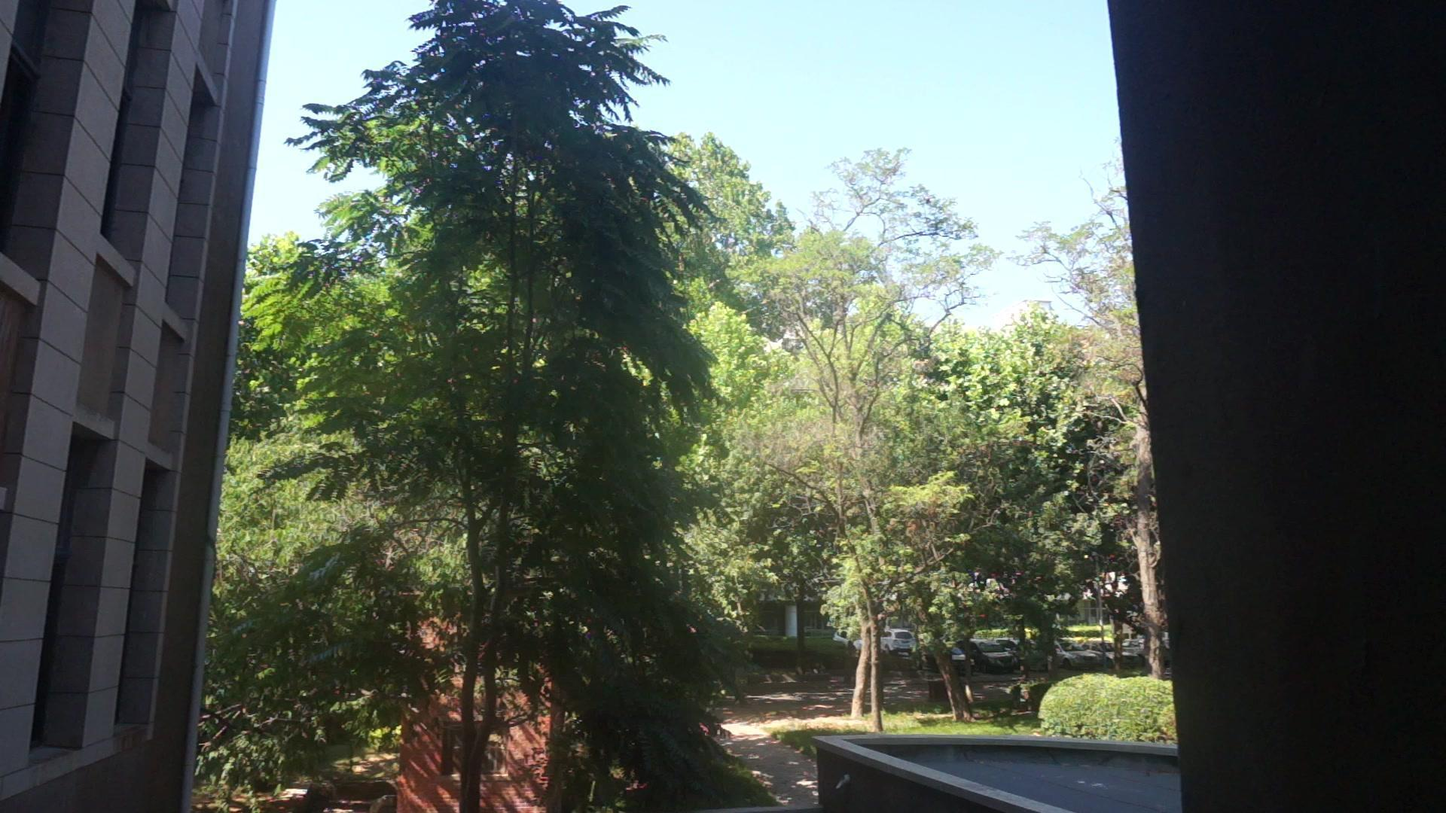UAV: (917, 194, 935, 206)
